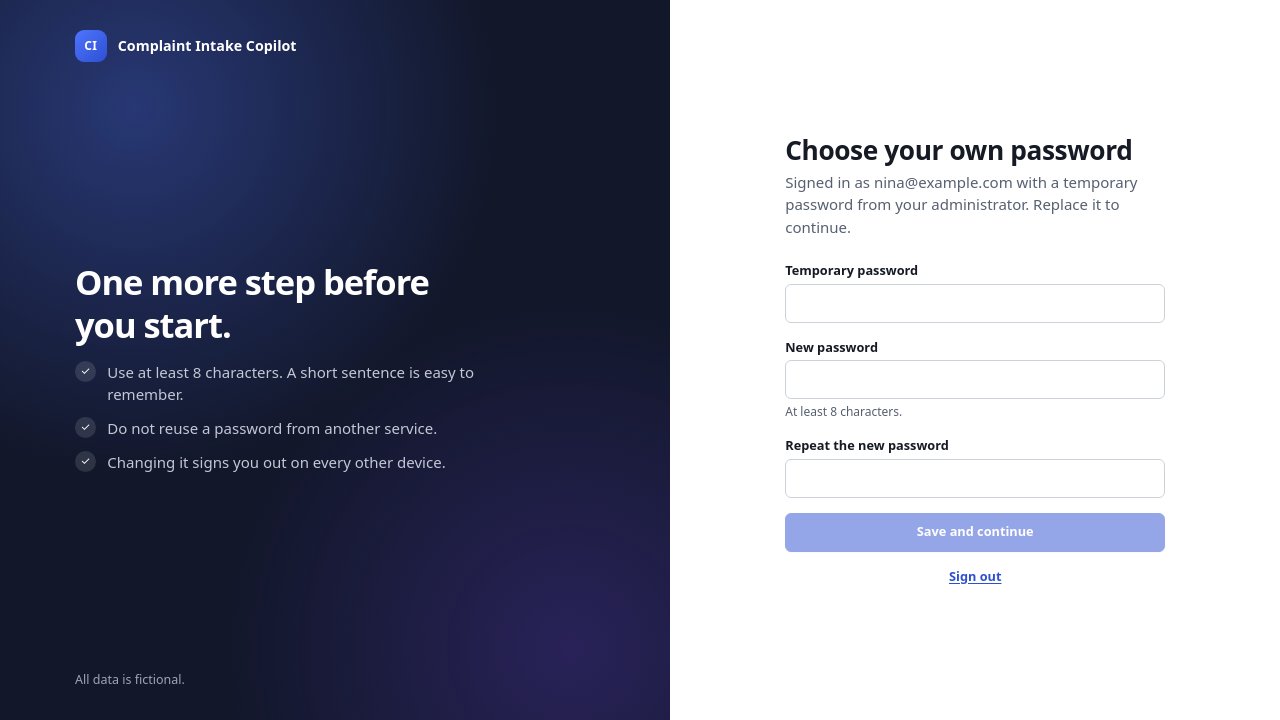
Test case: a temporary password › shows the API answer when the temporary password is wrong
Type "wrong one" into the password field labelled "Temporary password". click: [975, 303]
box: [785,284,1165,323]
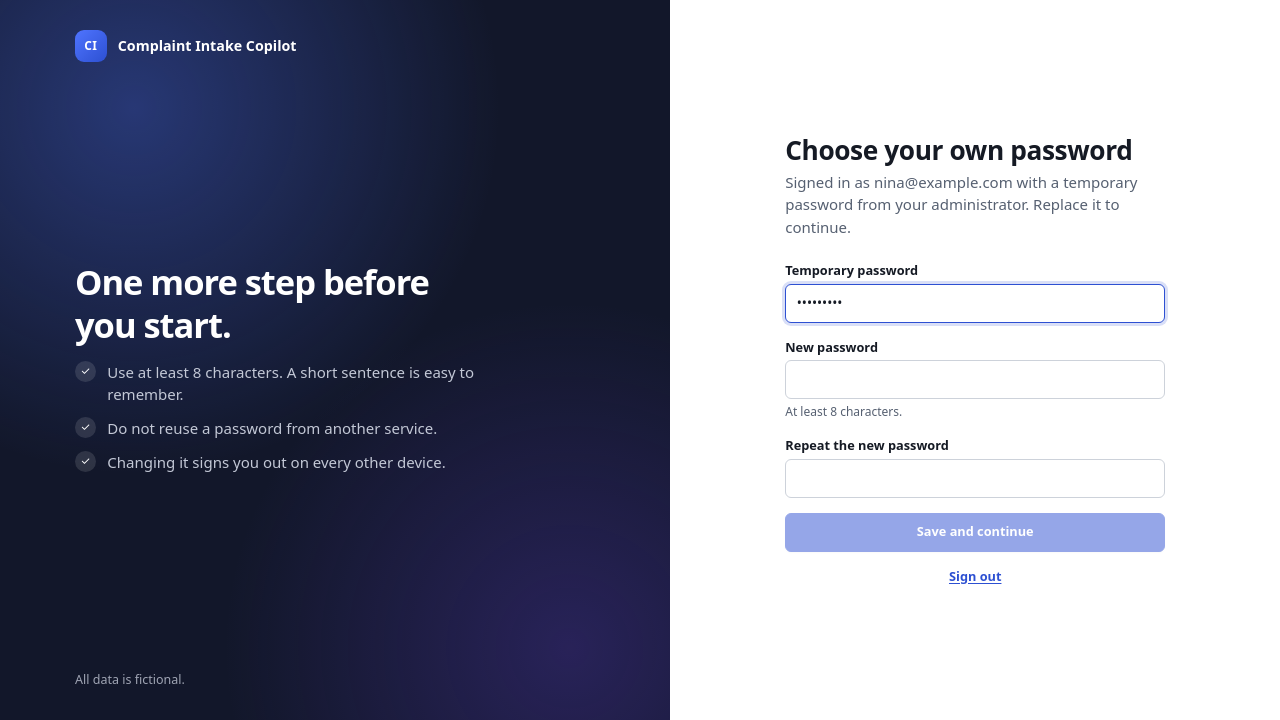
Type "my own password 456" into the password field labelled "New password". click: [975, 380]
box: [785,360,1165,399]
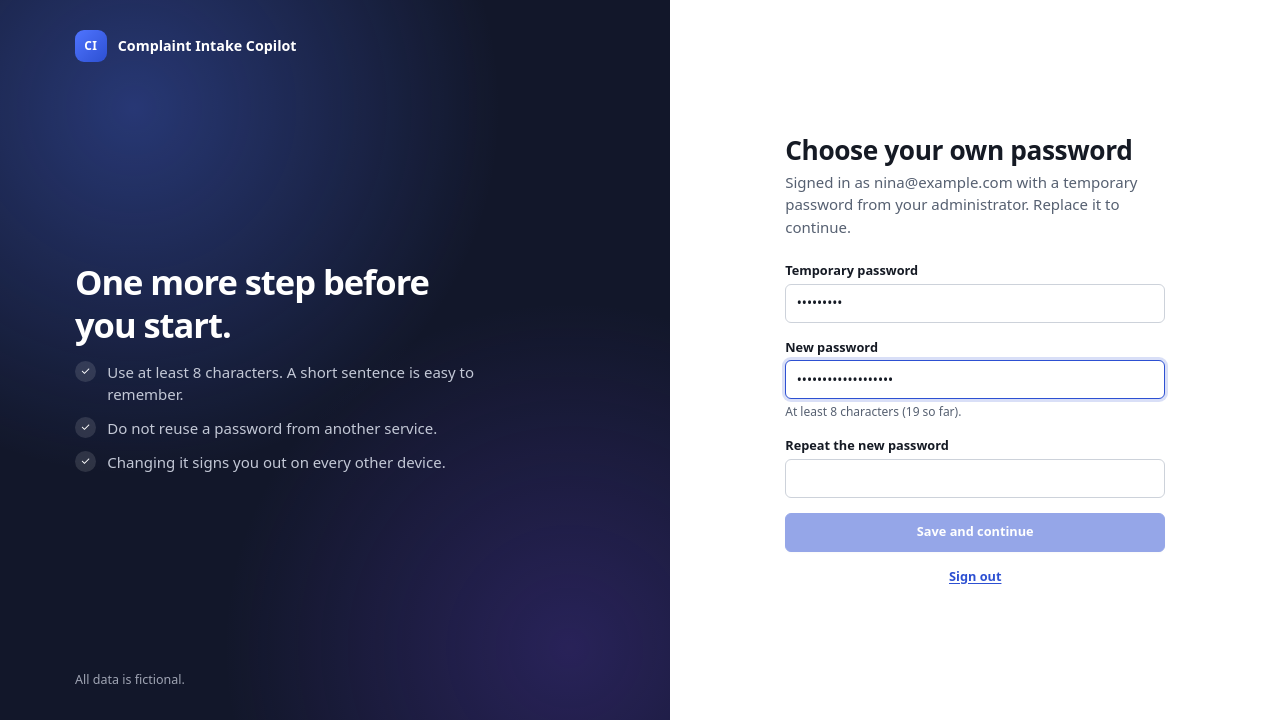
Type "my own password 456" into the password field labelled "Repeat the new password". click: [975, 478]
box: [785,459,1165,498]
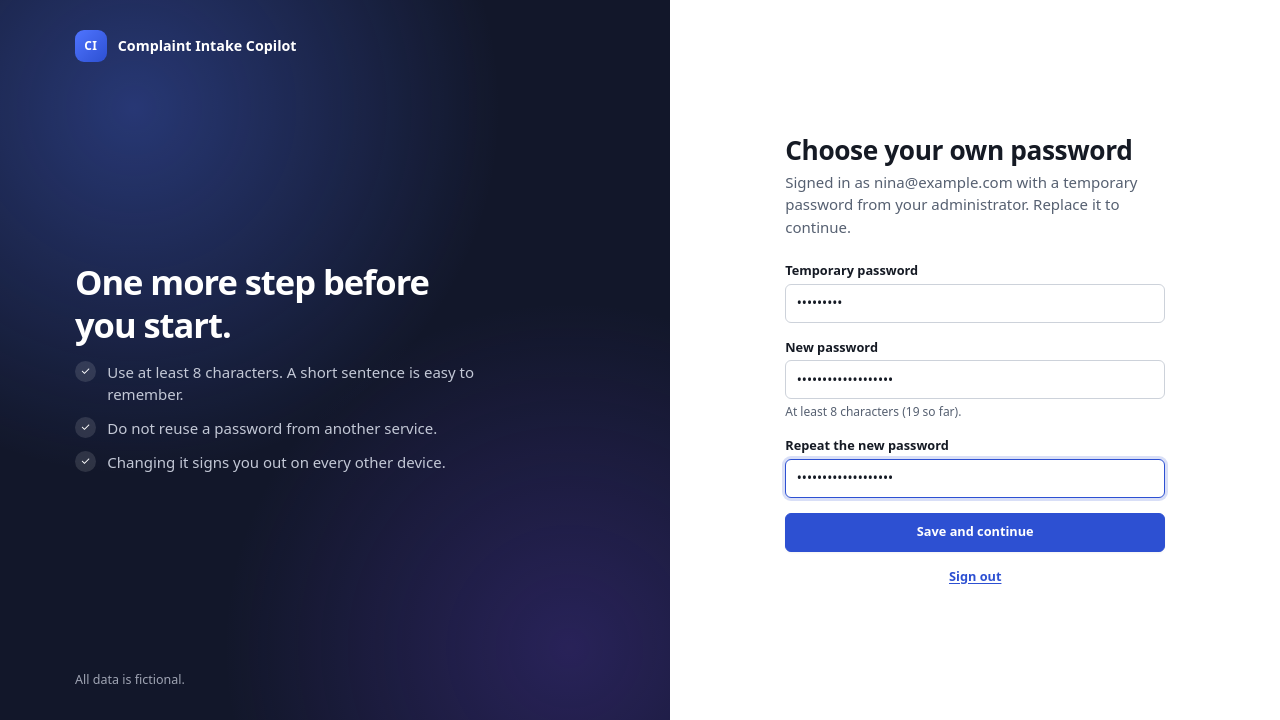
Click the button "Save and continue". click: [975, 532]
box: [785,512,1165,552]
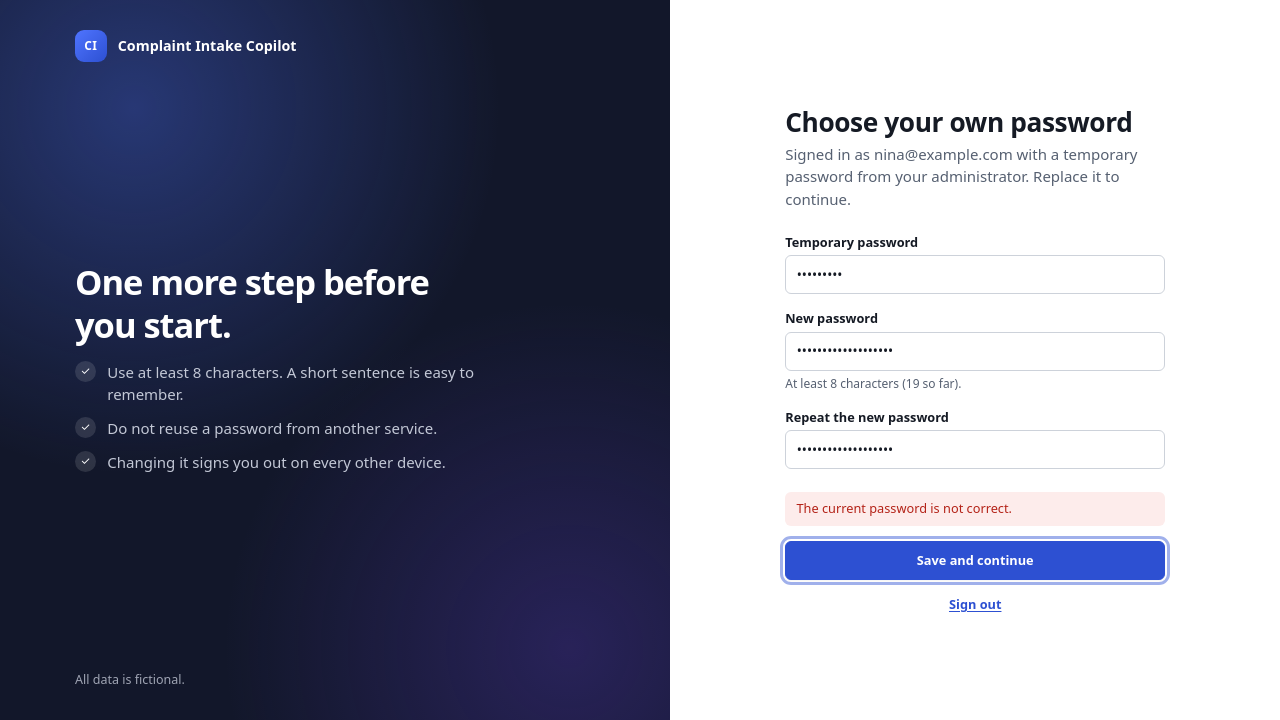
Now the message reads "The current password is not correct.", box [796,499,1012,517]
